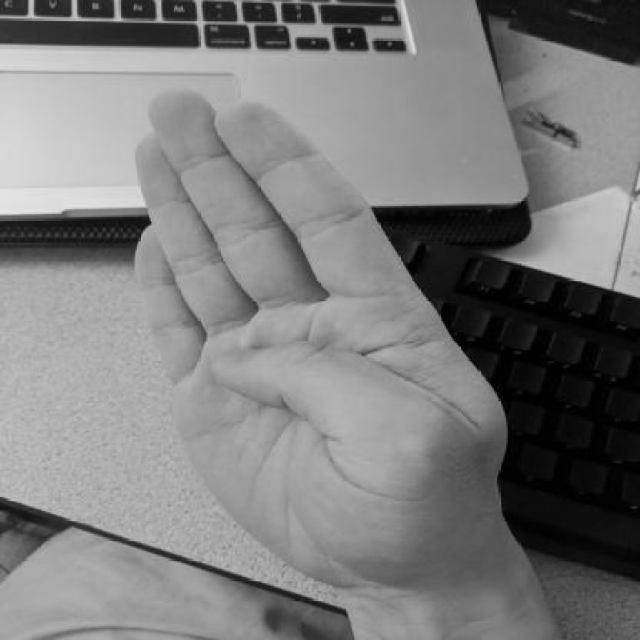B: (116, 82, 533, 605)
